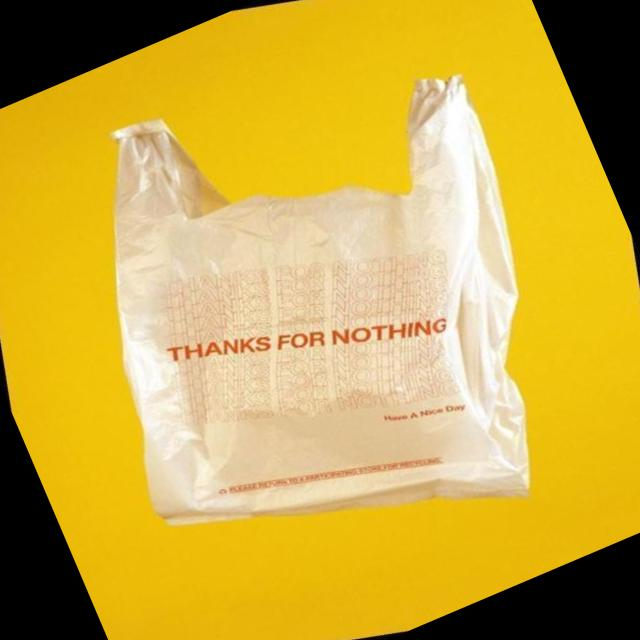KantongPlastik: (8, 0, 624, 633)
